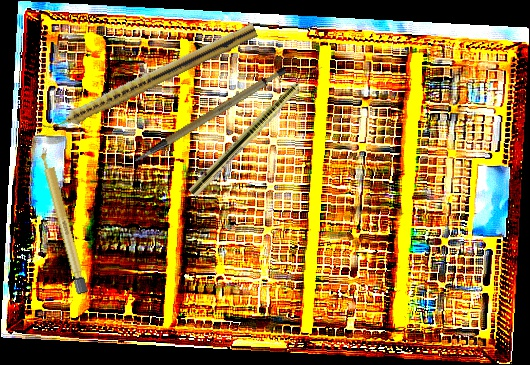Handpiece: (39, 18, 259, 140), (187, 58, 325, 200)
Scalpel Handle: (123, 64, 296, 163), (37, 144, 90, 296)
